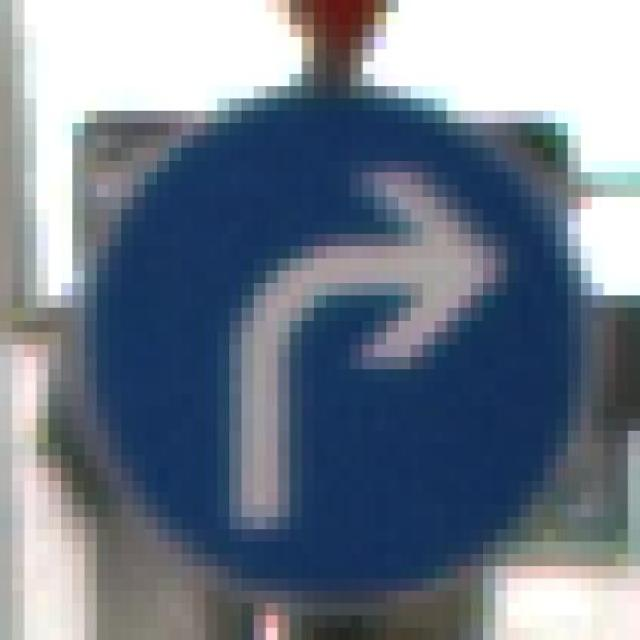Turn right ahead: (49, 74, 592, 591)
